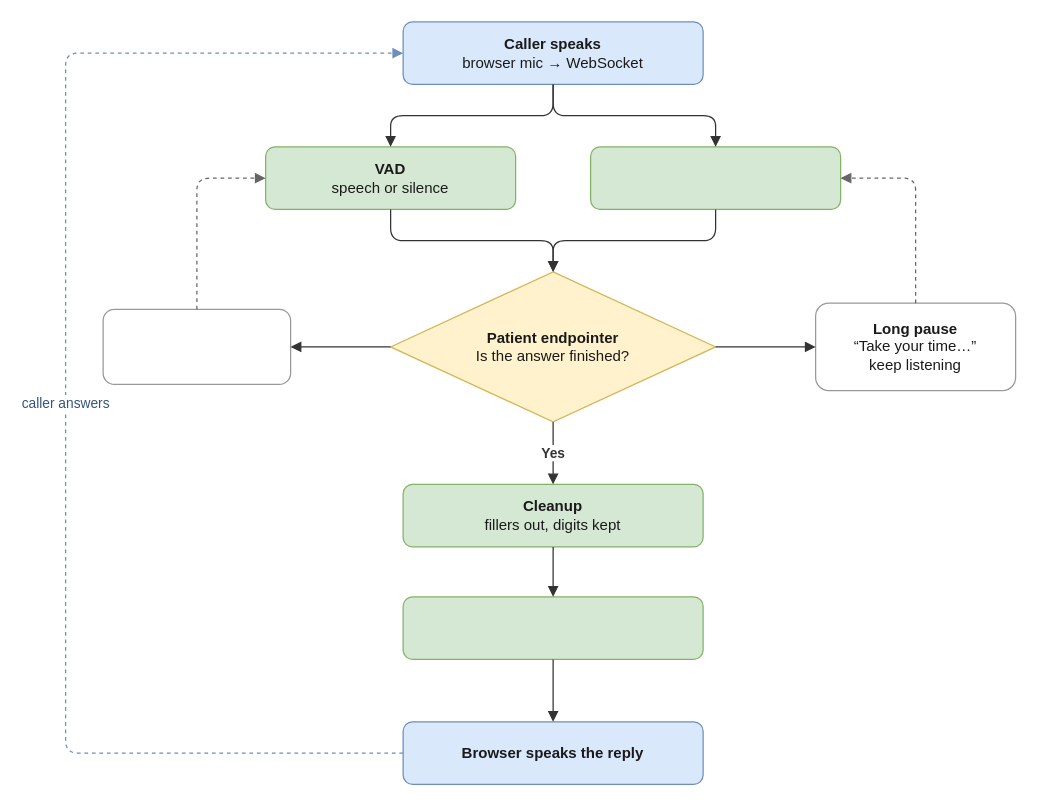
Some shapes in this 1038 by 806 pixel diagram are drawn without their labels. The centre of each missing label's shape, as x and y in pixels:
"Dialogue read-back or next question" goes at point 552,627.
"Not yet keep listening" goes at point 196,346.
"Vosk live transcript" goes at point 715,177.
